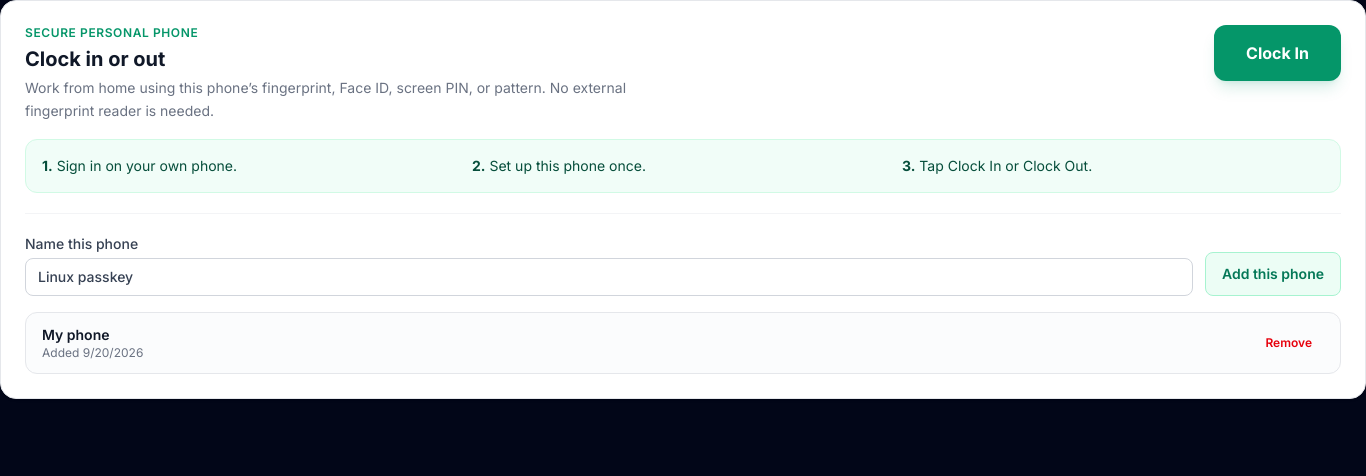
Test: personal phone clock › does not double-submit and still punches when location is denied
Click the button "Clock In" at [1278, 53], box [1214,25,1341,81]
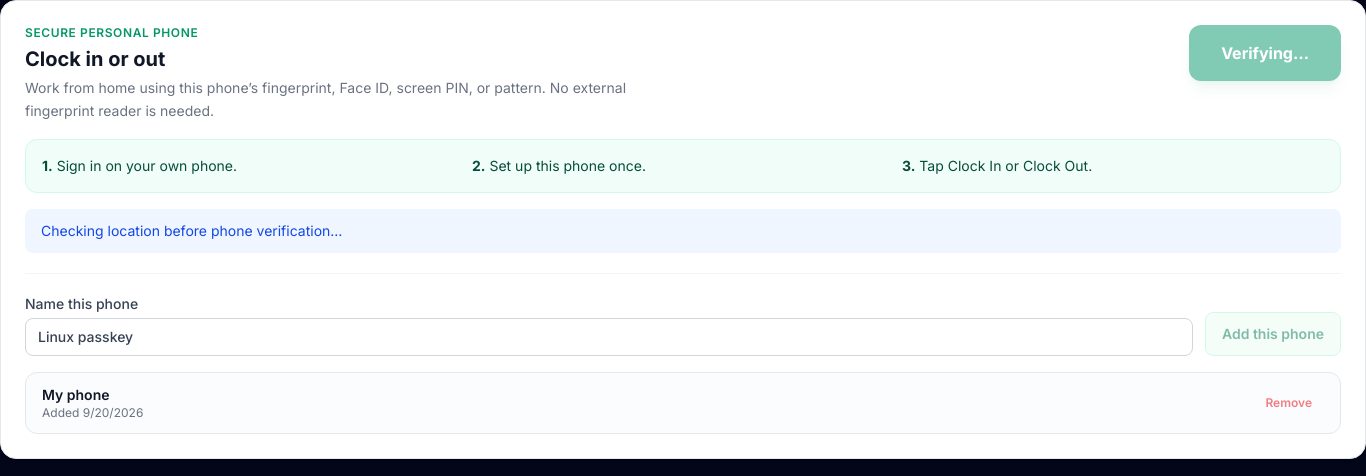
Click the button named "Clock In" at [1265, 53], box [1189,25,1341,81]
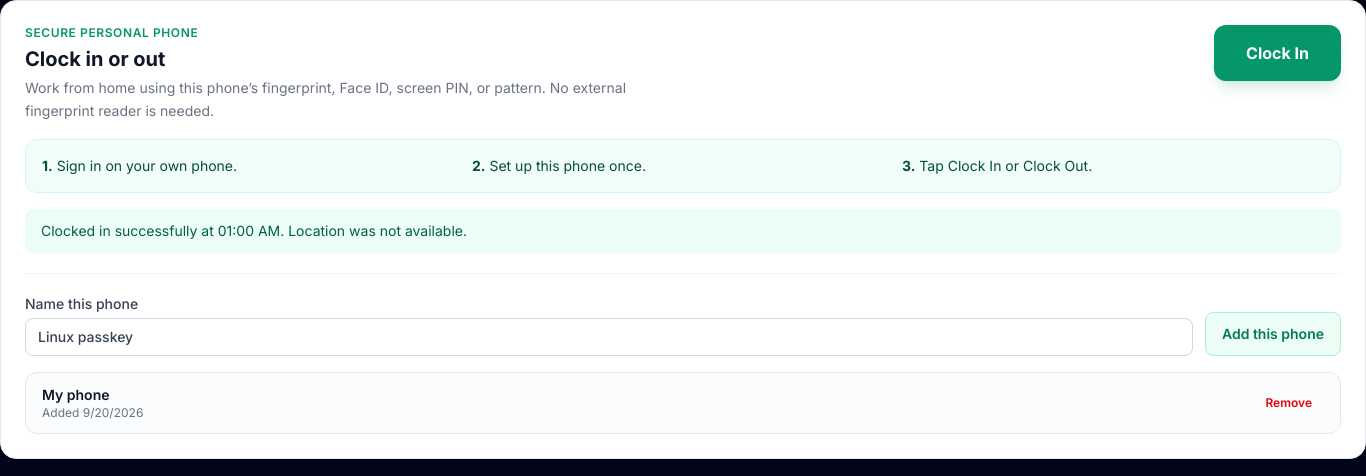
Expected: the text "Clocked in successfully" is shown, [41,222,467,238]
